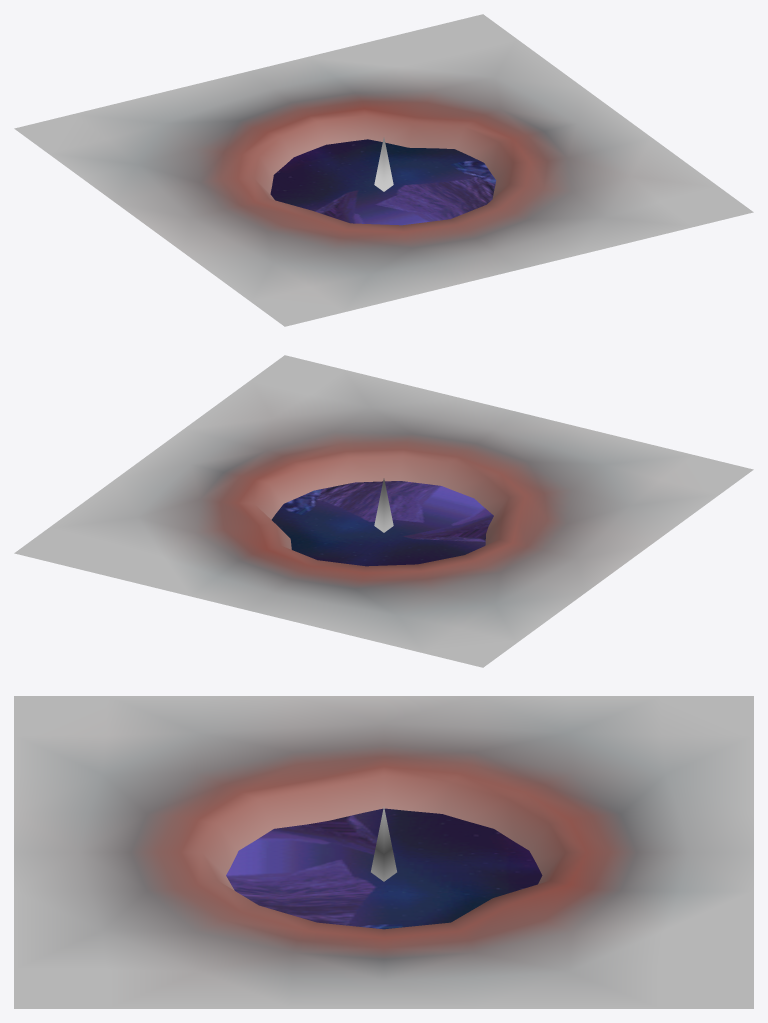
File: pepool01.fbx
3 renders of one model, top to bottom at view 1: azimuth 30°, elevation 25°; view 2: azimuth 150°, elevation 25°; view 3: azimuth 270°, elevation 25°, orthographic. The views are drawn at different scales.
Visible parts, largest first — view 1: grid1, chrome, hp_emit_1; view 2: grid1, chrome, hp_emit_1; view 3: grid1, chrome, hp_emit_1.
Boxes of the visible parts, bbox=[...] form: grid1: bbox=[14, 14, 753, 326]; chrome: bbox=[270, 139, 496, 225]; hp_emit_1: bbox=[374, 137, 393, 191]; grid1: bbox=[14, 355, 753, 667]; chrome: bbox=[271, 481, 493, 566]; hp_emit_1: bbox=[374, 478, 393, 532]; grid1: bbox=[14, 696, 753, 1008]; chrome: bbox=[226, 808, 542, 929]; hp_emit_1: bbox=[371, 807, 396, 881].
Size of the model in its own units: 32 by 6.43 by 32.
